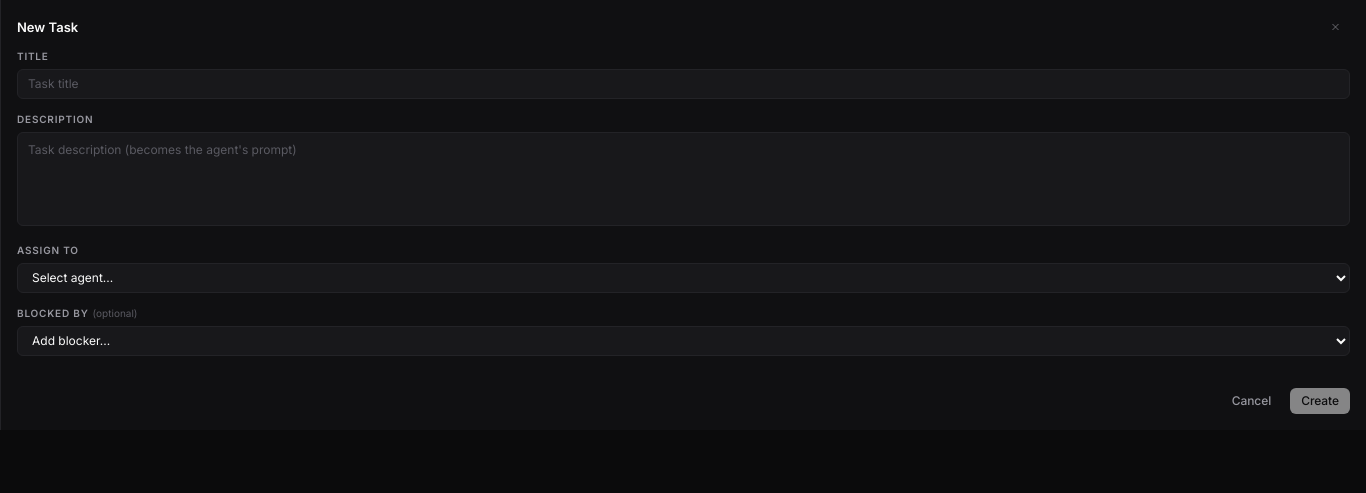
Test: CreateTaskSidebar › when onCreate rejects › clears a previous error when the next attempt succeeds
Type "  Ship it  " into the field with placeholder "Task title" at (684, 84), box [28, 76, 1339, 92]
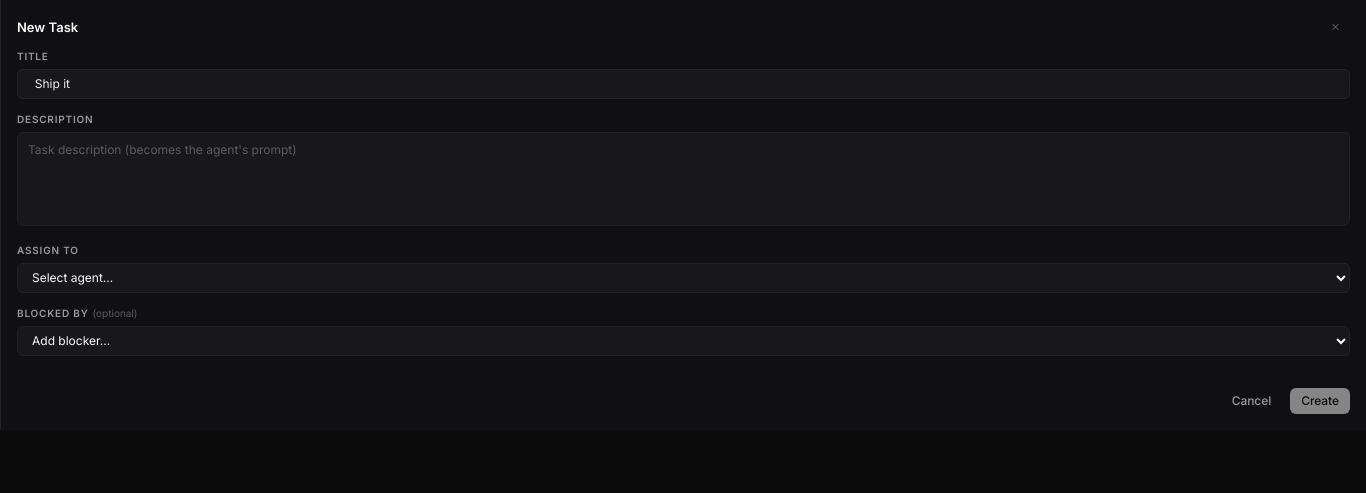
Type "  Do the thing  " into the text box with id "task-desc" at (684, 179), box [17, 132, 1350, 226]
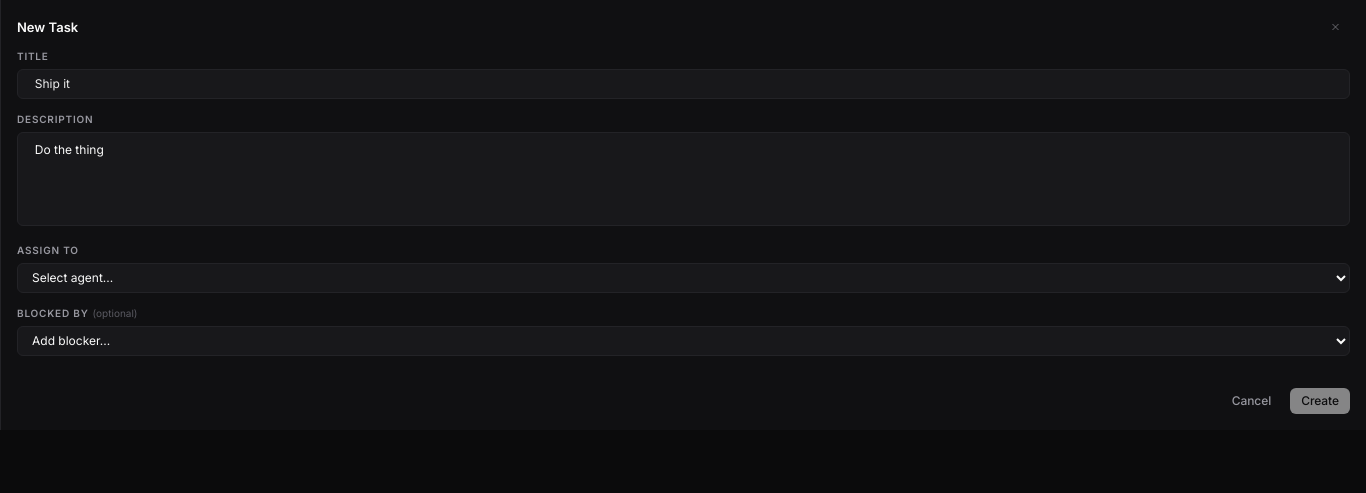
Select "Agent Two" in the dropdown with id "task-agent" at (684, 278), box [17, 263, 1350, 293]
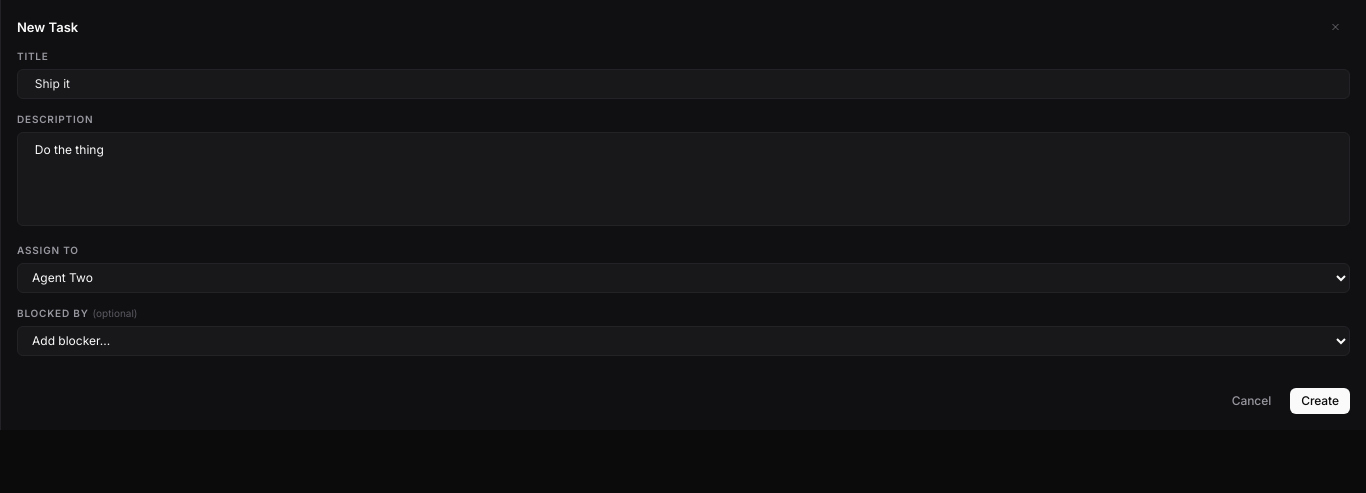
Click the button "Create" at (1320, 401), box [1290, 388, 1350, 414]
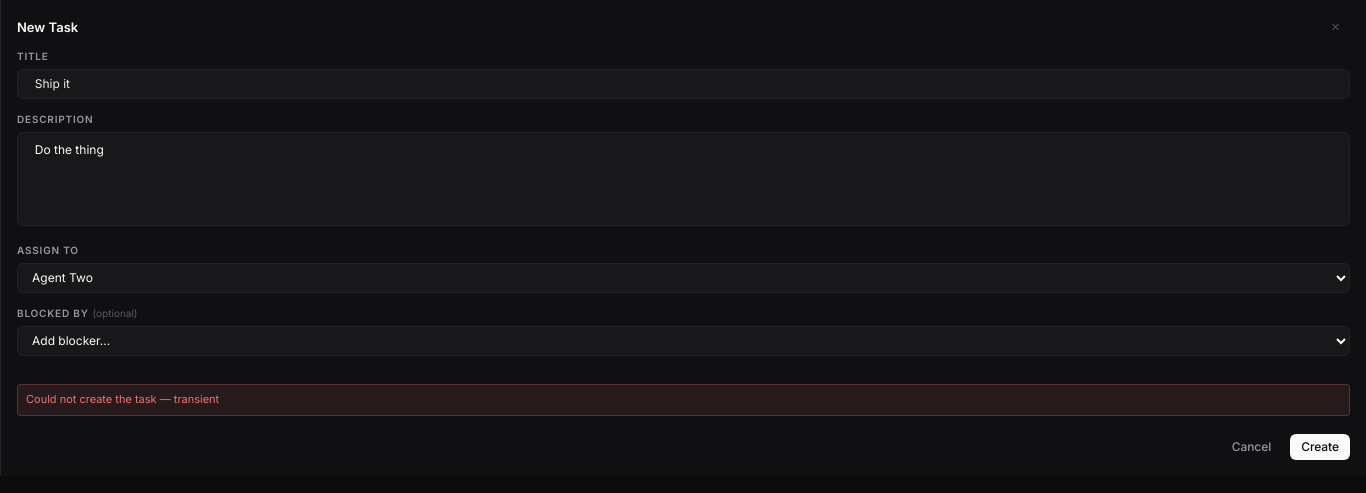
Now the message "Could not create the task — transient" is shown, box [17, 384, 1350, 416]
Click the button "Create" at (1320, 447), box [1290, 434, 1350, 460]
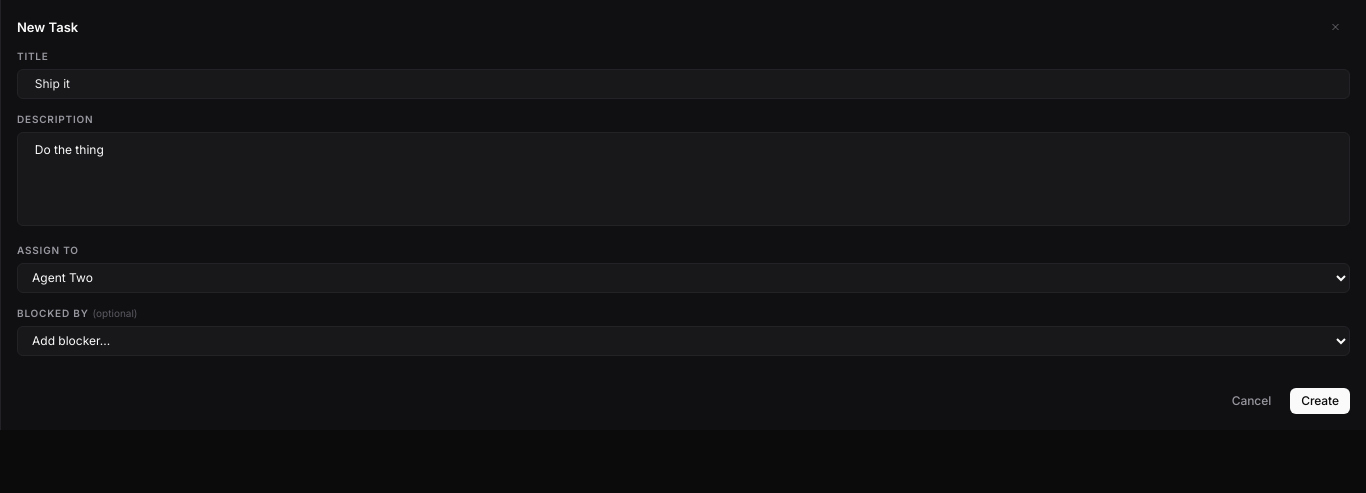
Now the message "Could not create the task — transient" is gone
